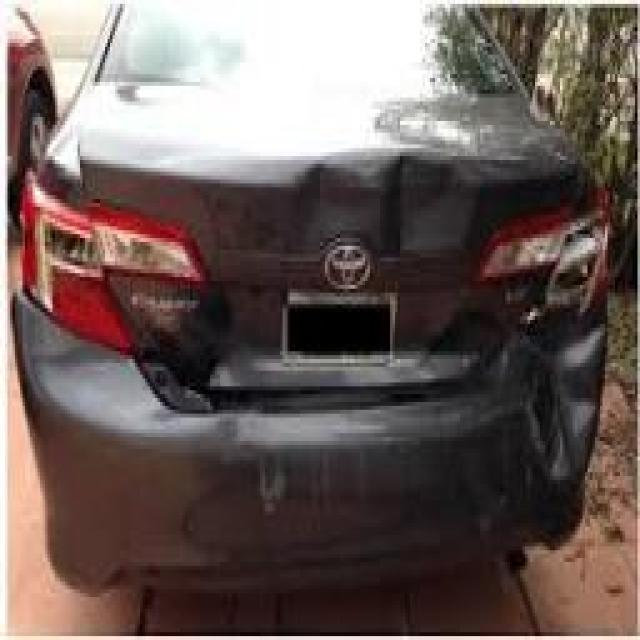replaceable: (520, 222, 607, 537), (302, 152, 492, 250), (135, 303, 233, 416), (434, 290, 522, 385)
